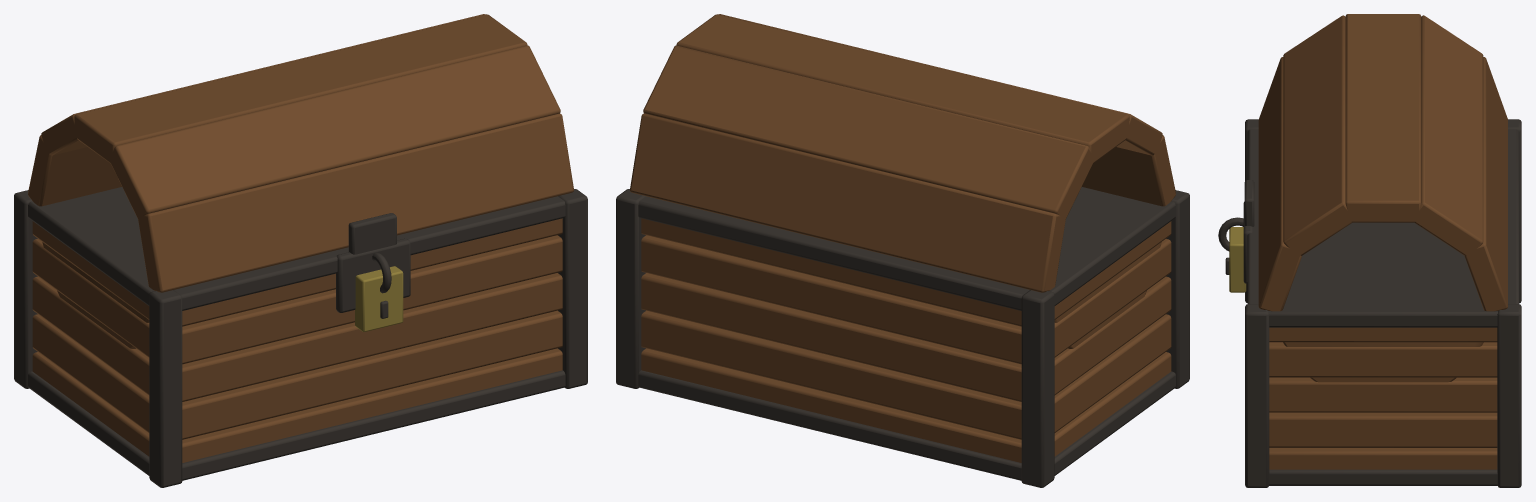
The model's file is truhe.glb.
3 views of the same model, side by side, from view 1: azimuth 30°, elevation 25°; view 2: azimuth 150°, elevation 25°; view 3: azimuth 270°, elevation 25° (orthographic). The views are drawn at different scales.
Parts seen in each view (by area): view 1: korpus, deckel, schloss; view 2: korpus, deckel; view 3: korpus, deckel, schloss.
Boxes of the visible parts, x1,y1,x2,y2 form: korpus: [14, 187, 587, 487]; deckel: [28, 14, 573, 348]; schloss: [355, 252, 403, 331]; korpus: [616, 187, 1189, 487]; deckel: [630, 14, 1175, 348]; korpus: [1243, 119, 1521, 487]; deckel: [1244, 14, 1507, 382]; schloss: [1218, 217, 1246, 292].
Bounding box in the file's own units: 0.95 × 0.6464 × 0.6252.
